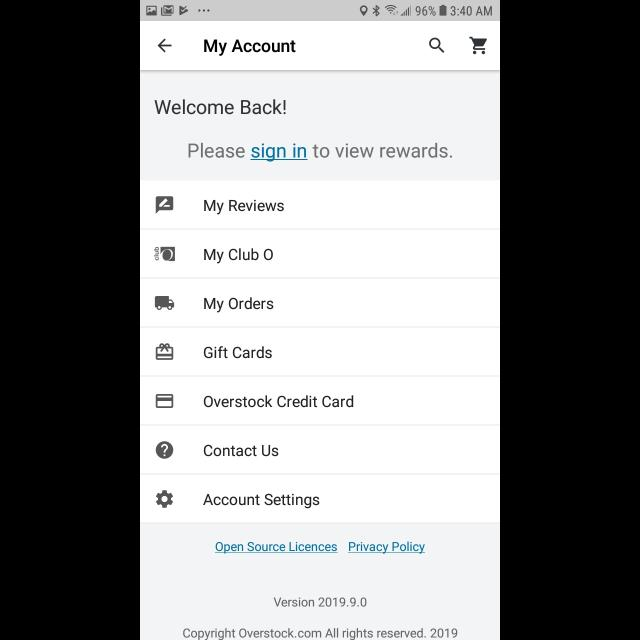icon: (156, 490, 174, 508), (156, 441, 174, 459), (156, 196, 174, 214), (469, 37, 487, 55), (156, 344, 174, 361), (429, 38, 445, 54), (156, 394, 174, 408), (158, 39, 172, 53)
image: (154, 246, 176, 262), (155, 296, 175, 310)
text: (188, 142, 452, 162), (182, 628, 458, 640), (154, 99, 286, 115), (204, 396, 354, 408), (204, 494, 320, 508), (215, 542, 338, 554), (204, 40, 296, 56), (204, 200, 284, 214), (204, 248, 274, 264), (204, 297, 274, 313), (348, 542, 426, 554), (274, 597, 366, 607), (204, 444, 280, 456), (204, 346, 272, 358)
uppertaskbar: (140, 1, 500, 22)
